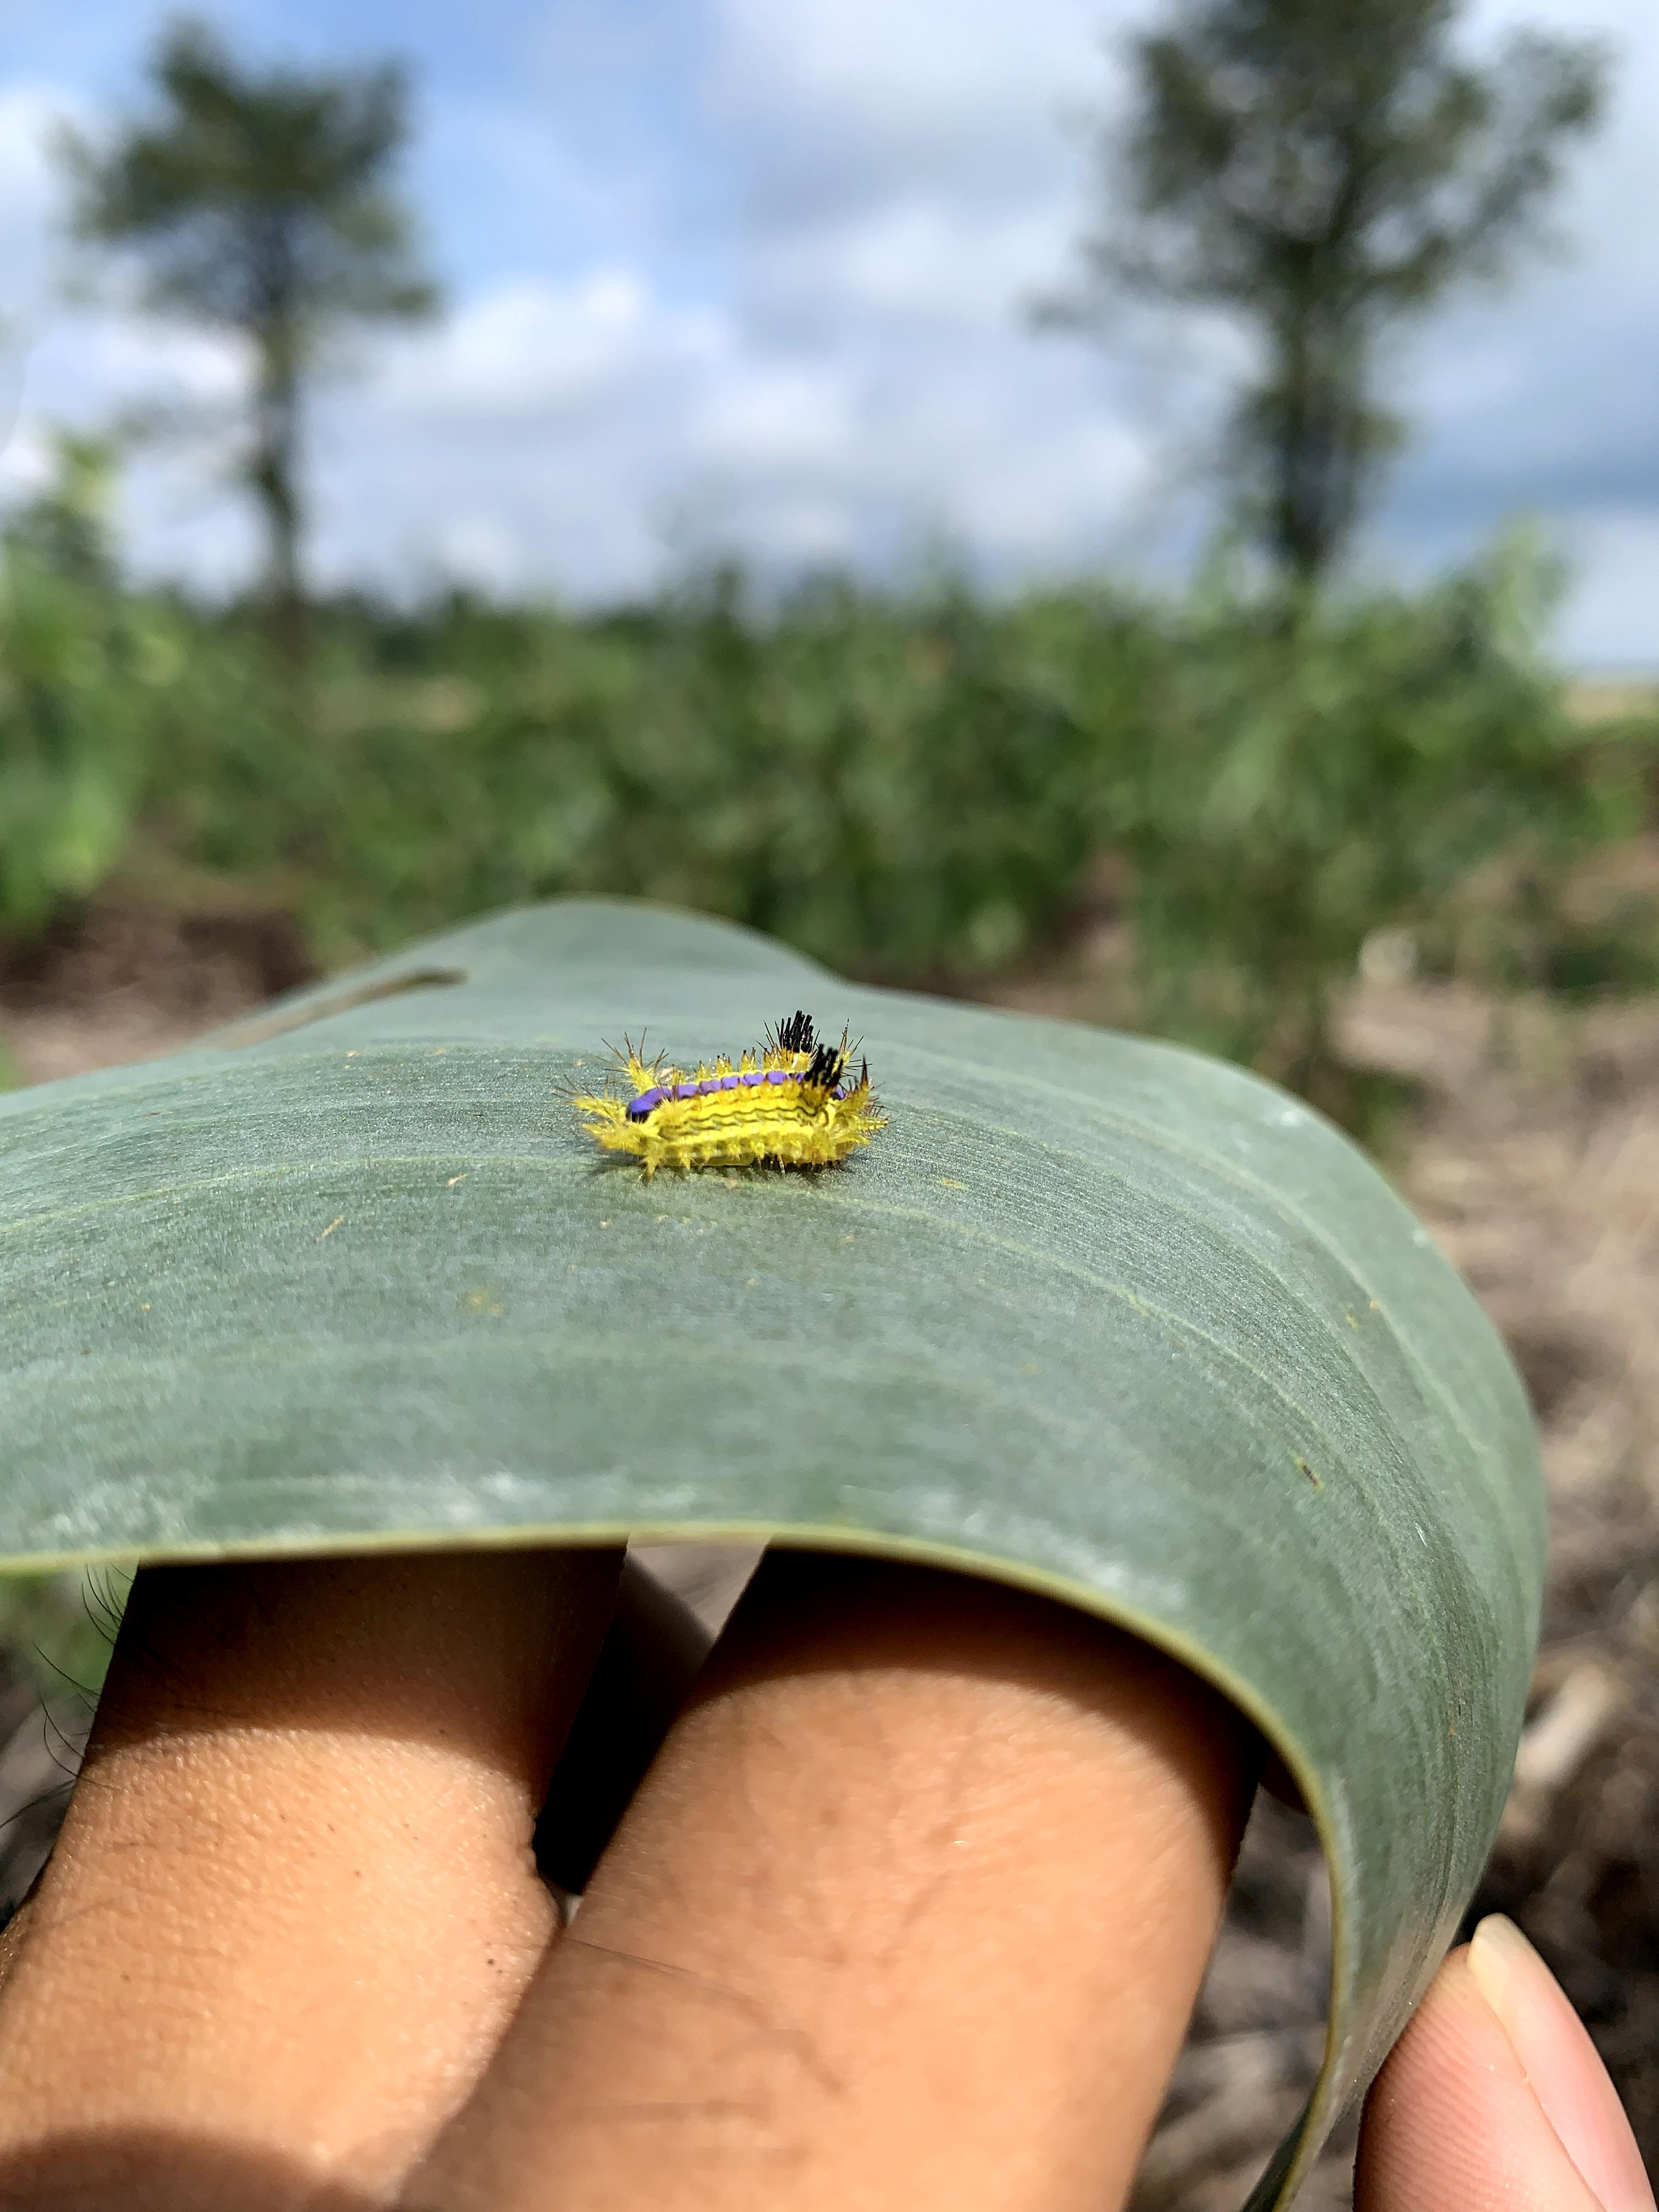Caterpillar: (566, 1010, 892, 1216)
